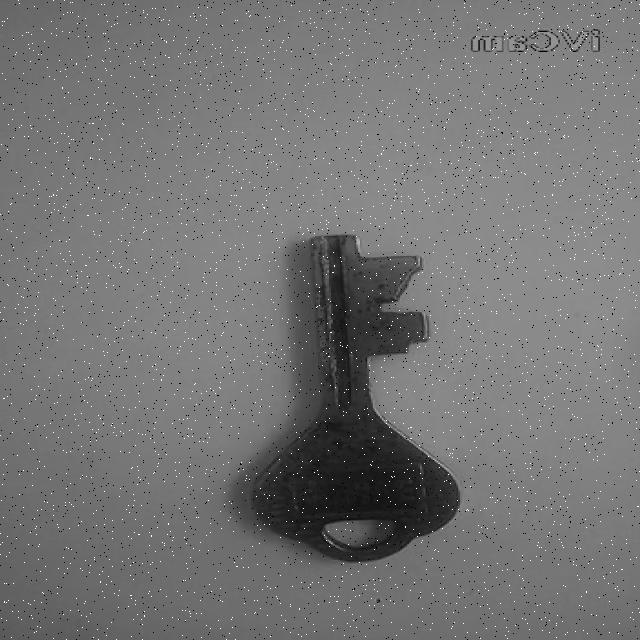key: (253, 236, 460, 562)
